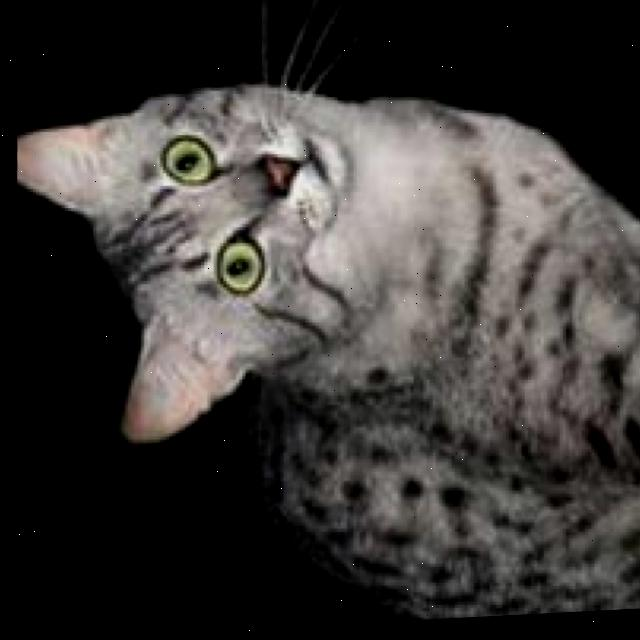Egyptian Mau: (3, 45, 640, 640)
